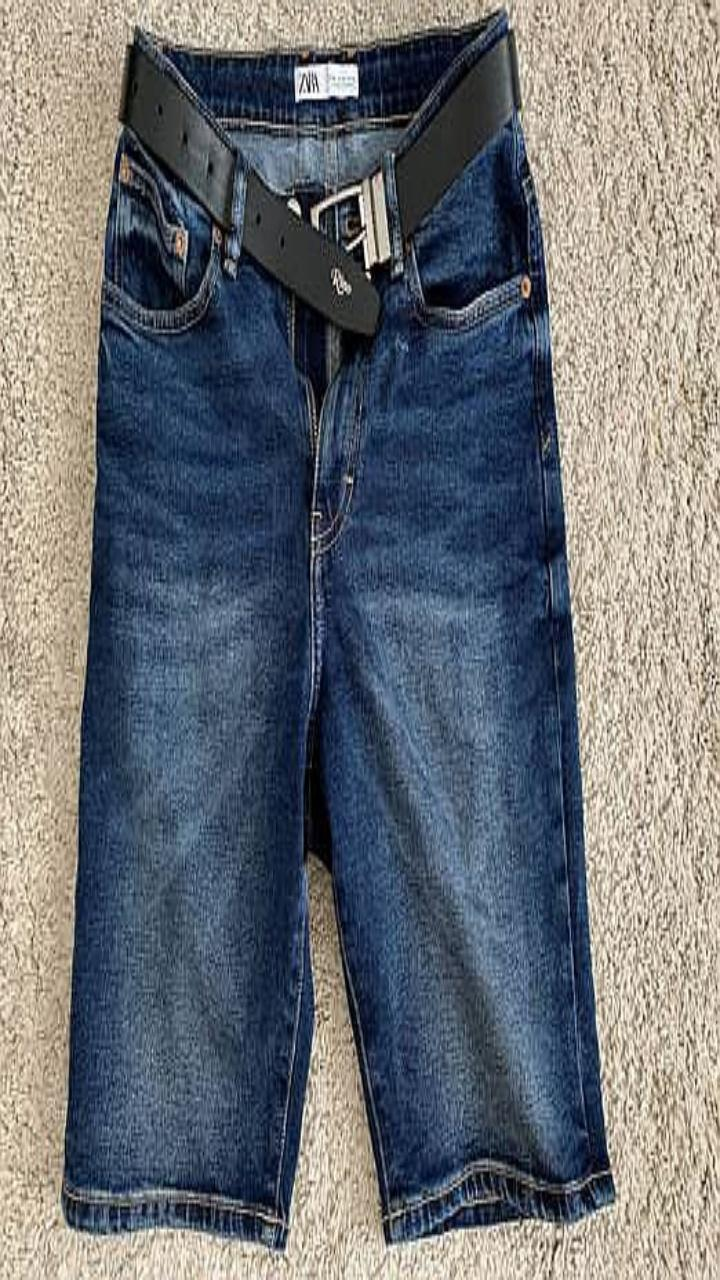Shorts: (62, 10, 613, 1248)
